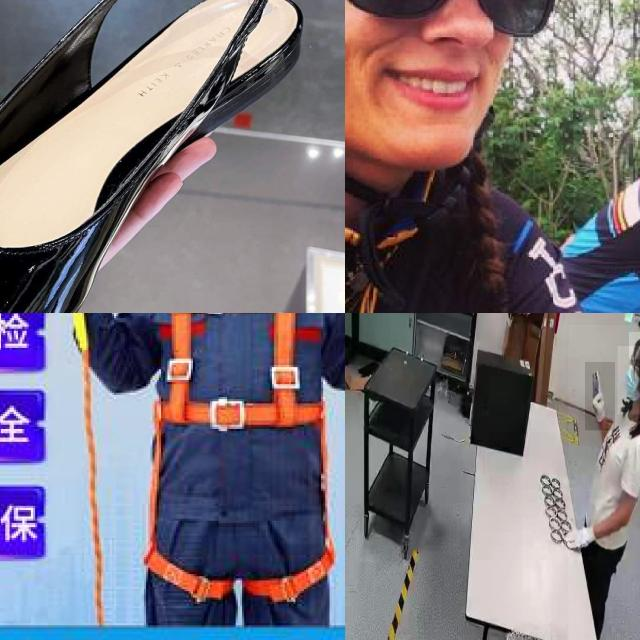Harness: (143, 313, 329, 602)
Sandals: (0, 0, 316, 313)
face_mask: (617, 345, 640, 414)
face_nomask: (345, 0, 527, 125)
glasses: (345, 0, 563, 43)
hand_glove: (585, 362, 615, 430), (570, 520, 598, 558)
head_nohelmet: (629, 331, 640, 360)
person: (556, 19, 640, 313), (568, 325, 640, 640)
